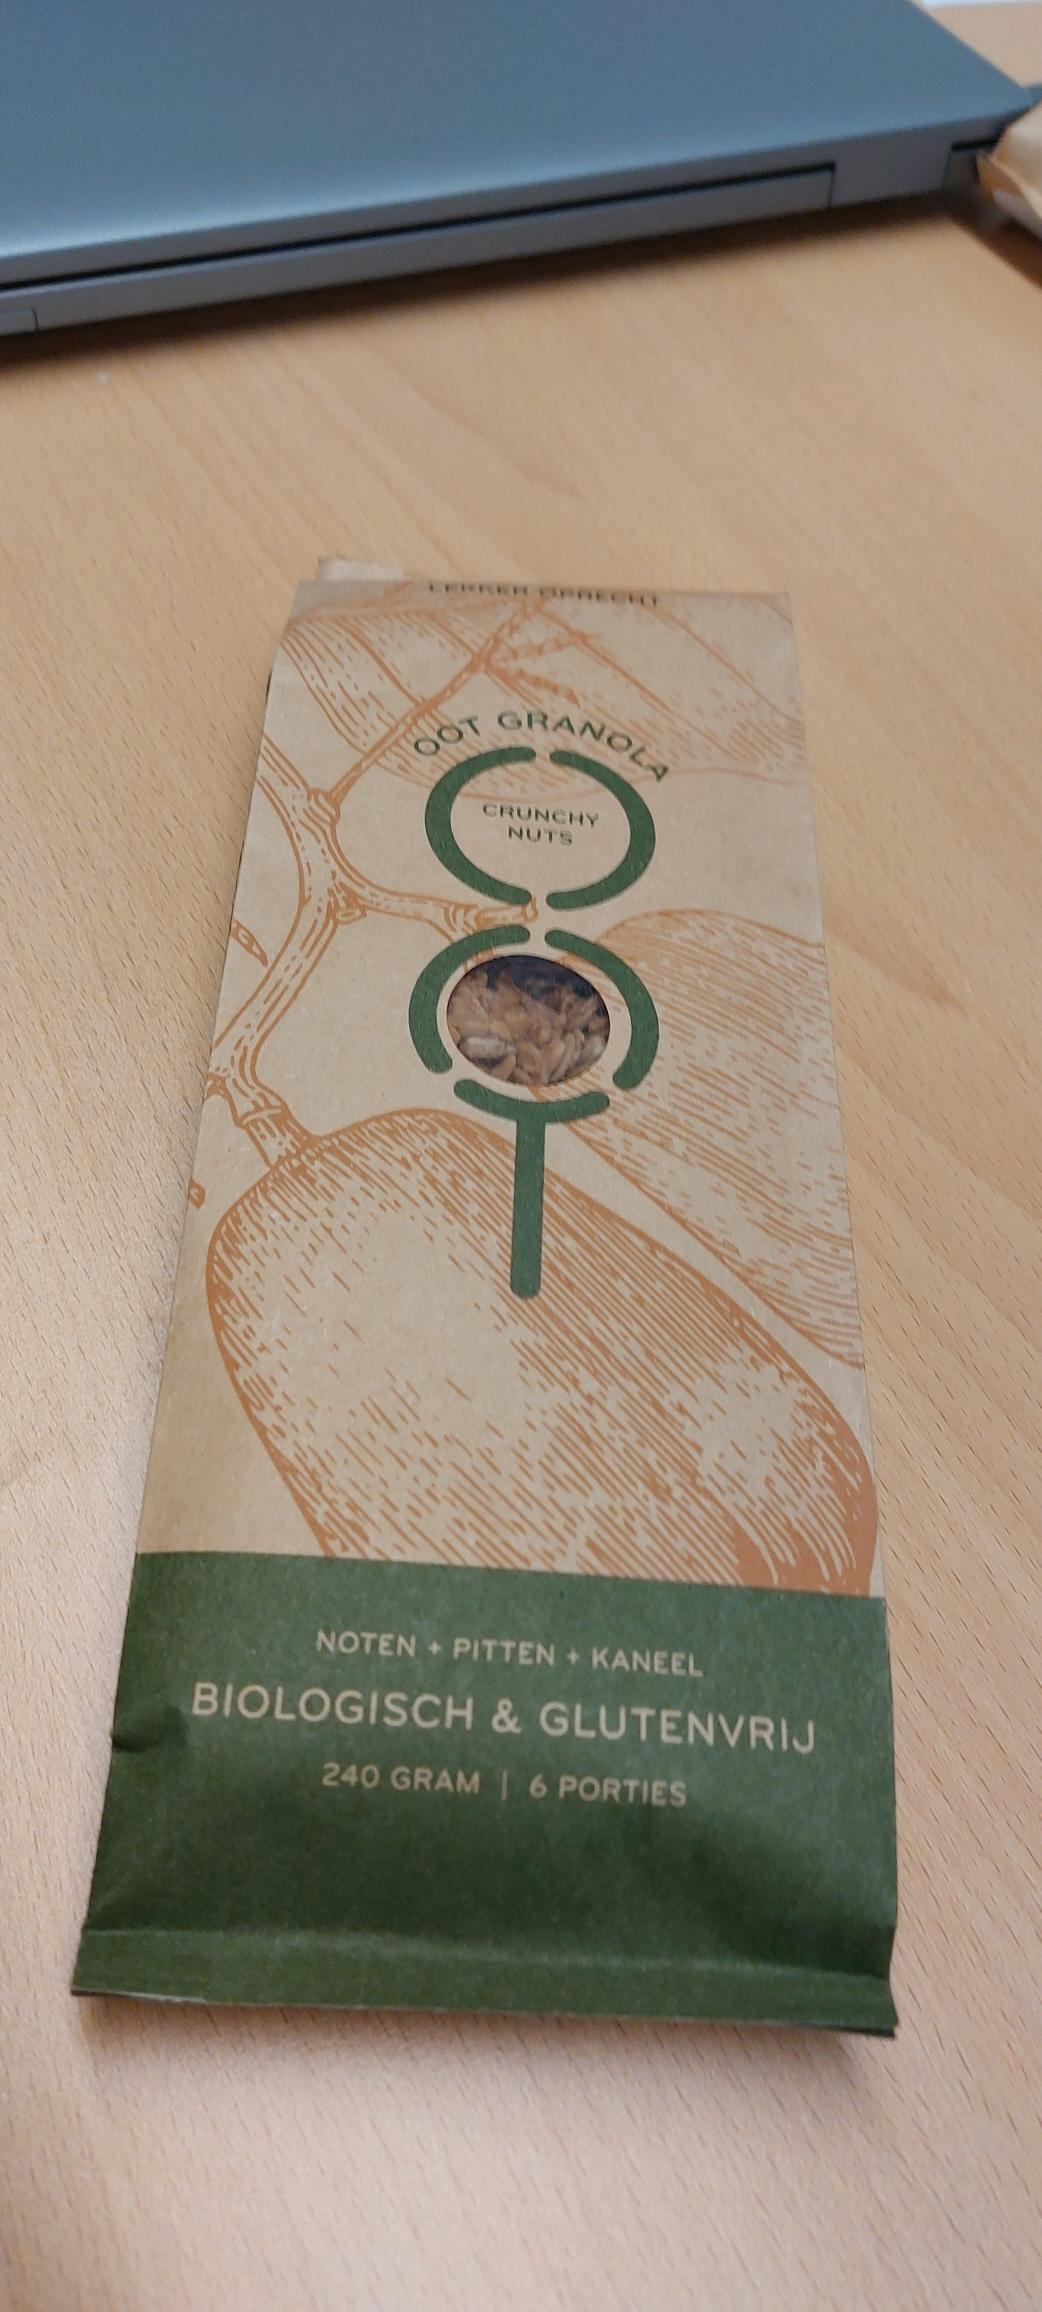CrunchyNuts: (195, 655, 837, 1958)
